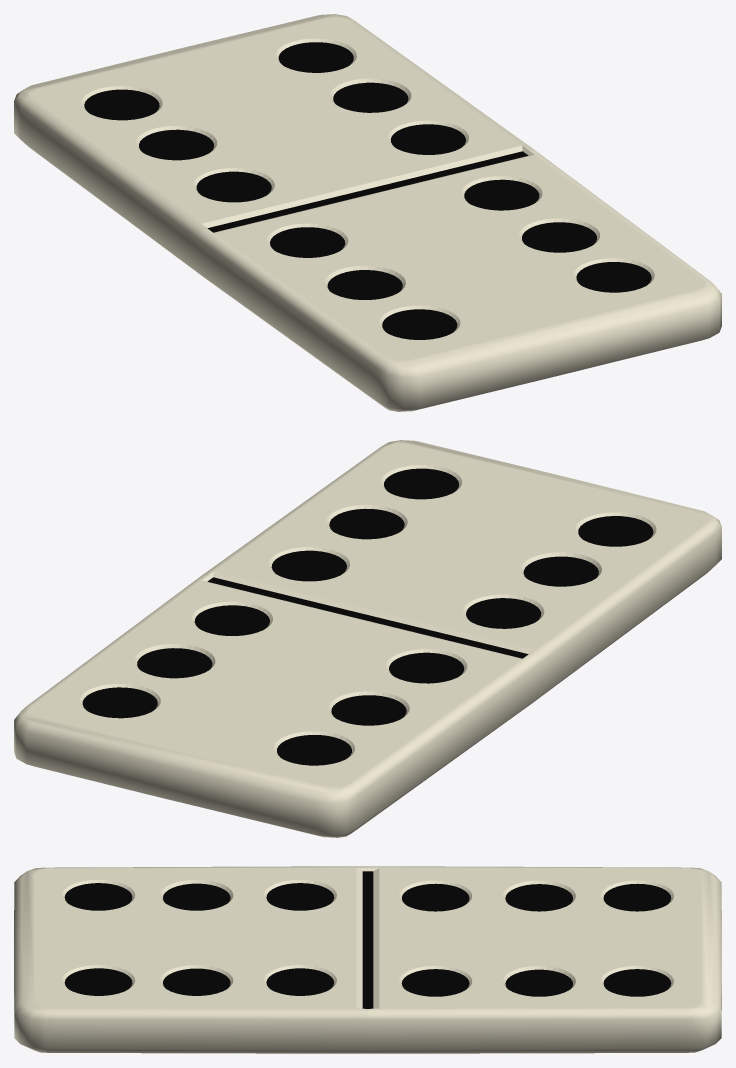
The model's file is Domino_6_6.glb.
3 views of the same model, one above another, from view 1: azimuth 30°, elevation 25°; view 2: azimuth 150°, elevation 25°; view 3: azimuth 270°, elevation 25° (orthographic). The views are drawn at different scales.
Visible parts, largest first — view 1: Domino_6_6_A.001, Domino_6_6_B.001; view 2: Domino_6_6_B.001, Domino_6_6_A.001; view 3: Domino_6_6_A.001, Domino_6_6_B.001.
Part boxes in pixels (x1,y1,x2,y2): Domino_6_6_A.001: (197,149,721,411); Domino_6_6_B.001: (14,14,533,276); Domino_6_6_B.001: (14,575,538,837); Domino_6_6_A.001: (202,440,721,702); Domino_6_6_A.001: (14,866,367,1053); Domino_6_6_B.001: (368,866,721,1053).
Size of the model in its own units: 0.7725 by 0.1053 by 1.54.
